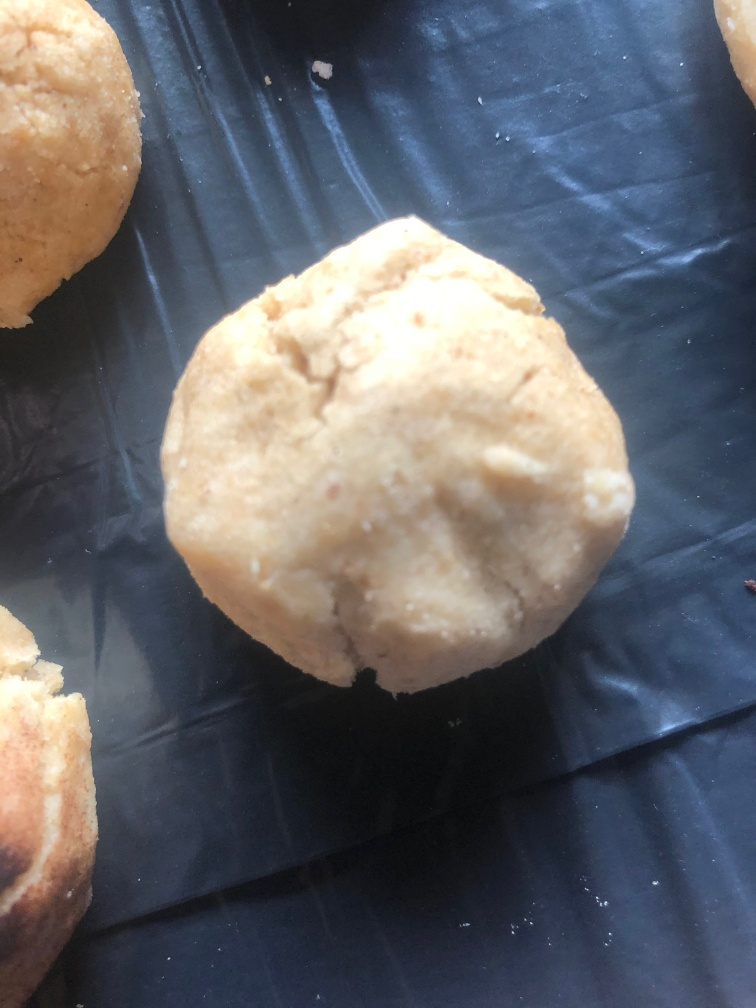snowball: (155, 210, 637, 696)
